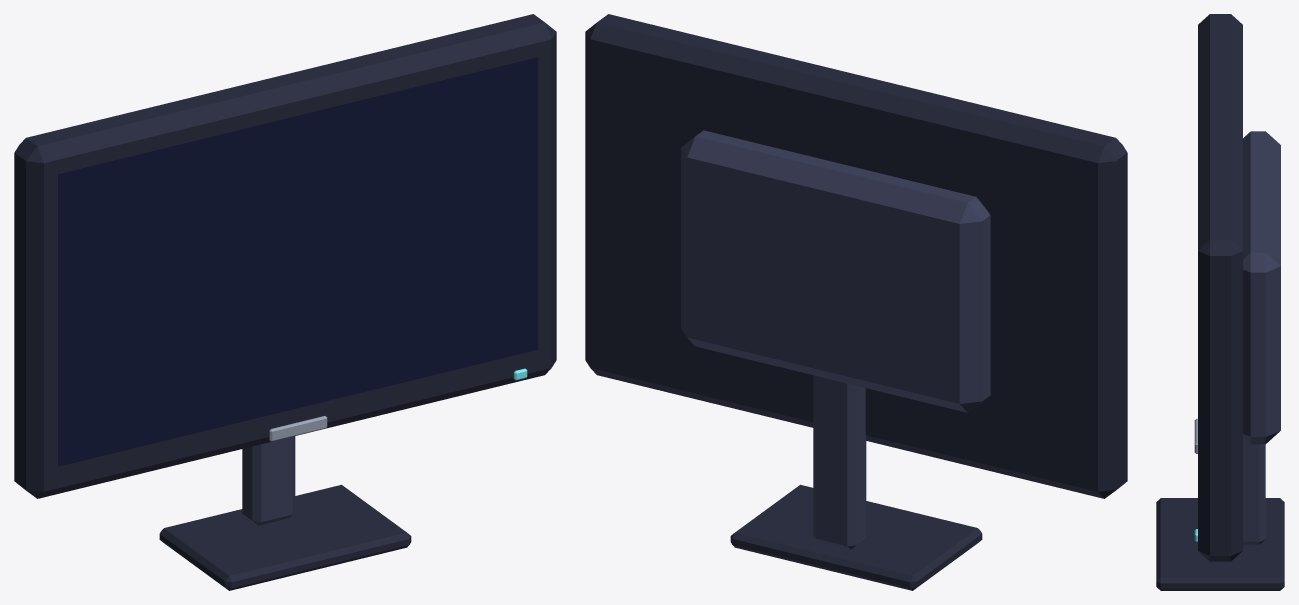
File: monitor.glb
3 views of the same model, side by side, from view 1: azimuth 30°, elevation 25°; view 2: azimuth 150°, elevation 25°; view 3: azimuth 270°, elevation 25° (orthographic). The views are drawn at different scales.
Visible parts, largest first — view 1: screen, pc_monitor; view 2: pc_monitor; view 3: pc_monitor.
Part boxes in pixels (bbox=[...]): screen: bbox=[58, 57, 538, 466]; pc_monitor: bbox=[14, 14, 556, 590]; pc_monitor: bbox=[585, 14, 1127, 590]; pc_monitor: bbox=[1156, 14, 1284, 590].
Bounding box in the file's own units: 0.74 × 0.62 × 0.17.
